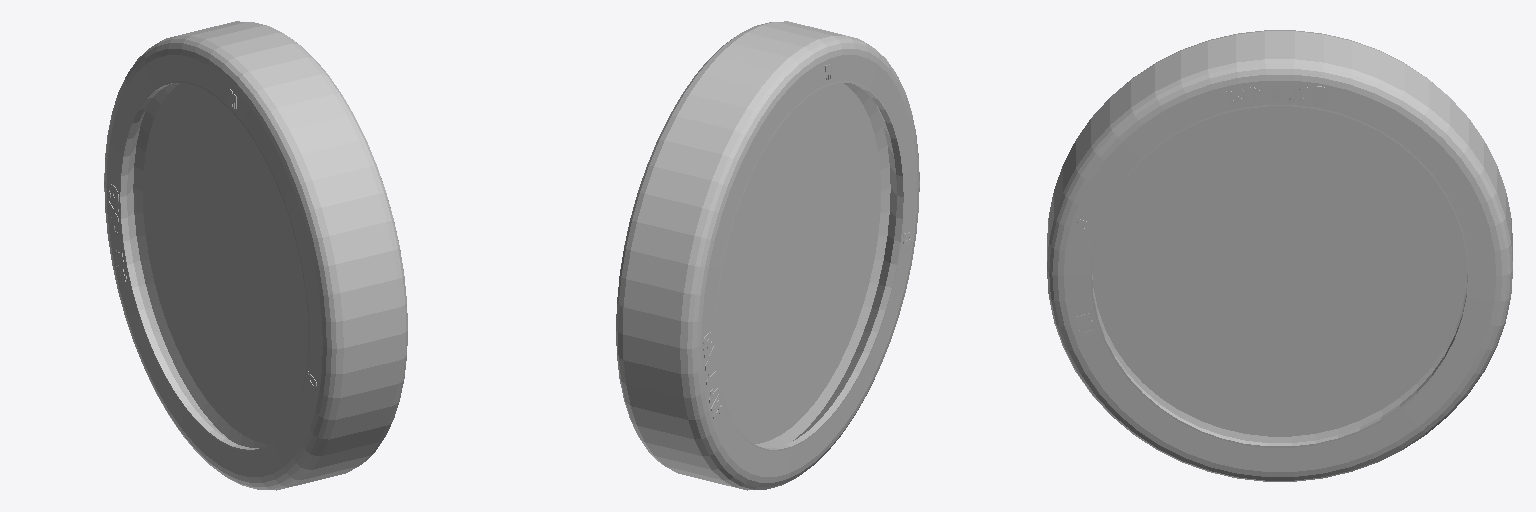
Rendered from caster_wheel_link.obj.
The picture shows the model from 3 angles: view 1: azimuth 30°, elevation 25°; view 2: azimuth 150°, elevation 25°; view 3: azimuth 270°, elevation 25°; orthographic projection.
Parts seen in each view (by area): view 1: frontwheel_L; view 2: frontwheel_L; view 3: frontwheel_L.
Part boxes in pixels (x1,y1,x2,y2): frontwheel_L: (104,21,407,490); frontwheel_L: (616,21,919,490); frontwheel_L: (1047,30,1512,481).
Size of the model in its own units: 3.16 by 15.12 by 15.15.